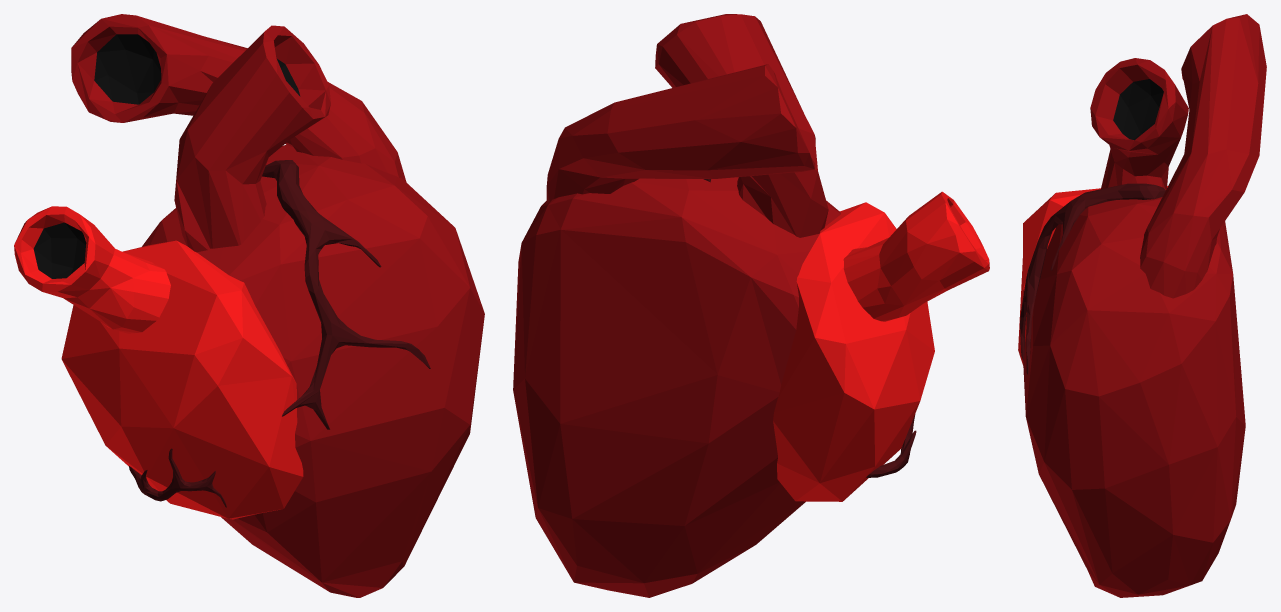
The model's file is heart-5938e4ca.obj.
3 renders of one model, left to right at view 1: azimuth 30°, elevation 25°; view 2: azimuth 150°, elevation 25°; view 3: azimuth 270°, elevation 25°, orthographic. The views are drawn at different scales.
Parts seen in each view (by area): view 1: Cuore; view 2: Cuore; view 3: Cuore.
Part boxes in pixels (bbox=[...]): Cuore: bbox=[14, 14, 484, 597]; Cuore: bbox=[513, 14, 989, 597]; Cuore: bbox=[1018, 14, 1266, 597].
Bounding box in the file's own units: 4.34 × 5.55 × 2.47.
